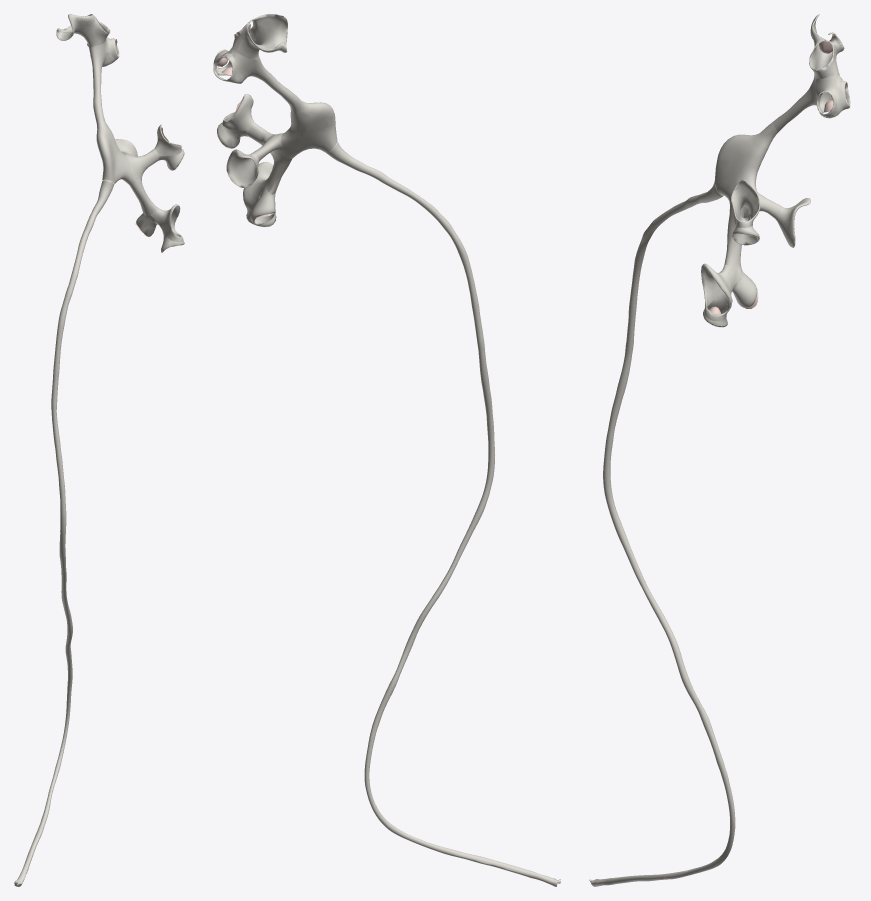
Rendered from vh_f_ureter_l-40.glb.
The picture shows the model from 3 angles, left to right: view 1: azimuth 30°, elevation 25°; view 2: azimuth 150°, elevation 25°; view 3: azimuth 270°, elevation 25°; orthographic projection. The views are drawn at different scales.
Parts seen in each view (by area): view 1: VH_F_left_ureter, VH_F_renal_pelvis_L, VH_F_minor_calyx_L_a, VH_F_major_calyx_L_a, VH_F_minor_calyx_L_h, VH_F_major_calyx_L_d, VH_F_major_calyx_L_c, VH_F_minor_calyx_L_f; view 2: VH_F_left_ureter, VH_F_renal_pelvis_L, VH_F_minor_calyx_L_a, VH_F_minor_calyx_L_e, VH_F_minor_calyx_L_c, VH_F_minor_calyx_L_f; view 3: VH_F_left_ureter, VH_F_renal_pelvis_L, VH_F_minor_calyx_L_h, VH_F_minor_calyx_L_f, VH_F_major_calyx_L_a, VH_F_minor_calyx_L_e, VH_F_minor_calyx_L_a, VH_F_minor_calyx_L_i, VH_F_major_calyx_L_d, VH_F_minor_calyx_L_d, VH_F_minor_calyx_L_c, VH_F_minor_calyx_L_b (+1 smaller).
Part boxes in pixels (box(x1,y1,x2,y2)): VH_F_left_ureter: box(14, 180, 113, 886); VH_F_renal_pelvis_L: box(94, 106, 130, 184); VH_F_minor_calyx_L_a: box(56, 14, 99, 48); VH_F_major_calyx_L_a: box(89, 43, 105, 111); VH_F_minor_calyx_L_h: box(151, 204, 183, 242); VH_F_major_calyx_L_d: box(129, 172, 156, 216); VH_F_major_calyx_L_c: box(128, 148, 159, 180); VH_F_minor_calyx_L_f: box(154, 124, 181, 156); VH_F_left_ureter: box(326, 141, 560, 886); VH_F_renal_pelvis_L: box(281, 94, 337, 158); VH_F_minor_calyx_L_a: box(236, 14, 287, 59); VH_F_minor_calyx_L_e: box(226, 149, 259, 187); VH_F_minor_calyx_L_c: box(213, 48, 256, 83); VH_F_minor_calyx_L_f: box(222, 94, 253, 130); VH_F_left_ureter: box(589, 182, 735, 886); VH_F_renal_pelvis_L: box(714, 122, 777, 215); VH_F_minor_calyx_L_h: box(701, 263, 736, 321); VH_F_minor_calyx_L_f: box(731, 180, 759, 227); VH_F_major_calyx_L_a: box(773, 77, 823, 132); VH_F_minor_calyx_L_e: box(777, 198, 810, 247); VH_F_minor_calyx_L_a: box(810, 14, 844, 69); VH_F_minor_calyx_L_i: box(732, 268, 757, 308); VH_F_major_calyx_L_d: box(724, 203, 743, 267); VH_F_minor_calyx_L_d: box(816, 74, 838, 117); VH_F_minor_calyx_L_c: box(816, 73, 850, 118); VH_F_minor_calyx_L_b: box(809, 39, 838, 79).
Size of the model in its own units: 0.0825 by 0.266 by 0.0672.
